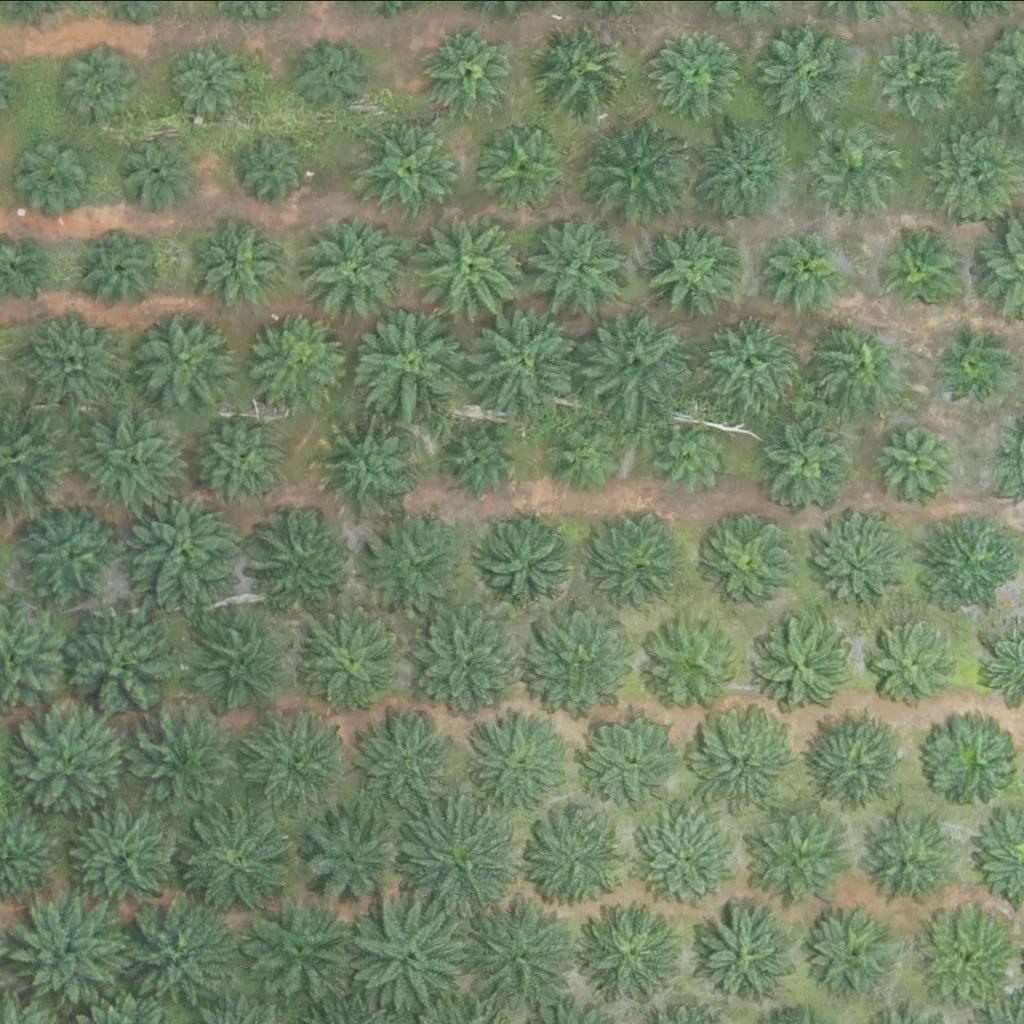Kelapa_Sawit: (113, 897, 239, 1022), (344, 887, 470, 1012), (175, 792, 301, 917), (400, 797, 526, 922), (59, 604, 185, 729), (406, 599, 532, 724), (123, 484, 249, 609), (72, 397, 198, 522), (348, 295, 474, 420), (461, 295, 587, 420), (408, 203, 534, 328), (458, 891, 584, 1016), (67, 796, 192, 921), (13, 895, 126, 1008), (245, 894, 358, 1007), (301, 799, 414, 912), (355, 700, 468, 813), (578, 305, 691, 418), (530, 608, 643, 721), (463, 712, 576, 825), (581, 115, 695, 227), (16, 707, 129, 819), (128, 706, 241, 818), (195, 609, 296, 709), (296, 608, 397, 708), (251, 501, 352, 601), (356, 513, 457, 613), (319, 410, 420, 510), (804, 122, 905, 222), (641, 219, 742, 319), (699, 313, 800, 413), (815, 317, 916, 417), (758, 412, 859, 512), (473, 517, 574, 617), (585, 515, 686, 615), (697, 507, 798, 607), (802, 512, 903, 612), (918, 511, 1019, 611), (642, 612, 743, 712), (583, 710, 684, 810), (694, 712, 795, 812), (527, 809, 628, 909), (20, 503, 120, 603), (28, 309, 128, 409), (135, 309, 235, 409), (252, 307, 352, 407), (308, 216, 408, 316), (359, 122, 459, 222), (535, 19, 635, 119), (650, 25, 750, 125), (759, 21, 859, 121), (527, 214, 627, 314), (810, 717, 910, 817), (919, 712, 1019, 812), (636, 807, 736, 907), (747, 808, 847, 908), (861, 810, 961, 910), (585, 904, 685, 1004), (695, 904, 795, 1004), (807, 902, 907, 1002), (756, 614, 857, 713), (251, 718, 339, 806), (198, 219, 286, 307), (879, 27, 967, 115), (483, 121, 571, 209), (700, 127, 788, 215), (77, 225, 165, 312), (202, 414, 290, 501), (427, 26, 515, 113), (879, 227, 967, 314), (866, 619, 954, 706), (168, 43, 244, 118), (116, 133, 192, 208), (235, 128, 311, 203), (291, 39, 367, 114), (19, 135, 94, 210), (61, 42, 136, 117), (652, 416, 727, 491), (548, 417, 623, 492), (445, 424, 520, 499), (771, 235, 846, 310), (938, 328, 1013, 403), (881, 428, 956, 503)
